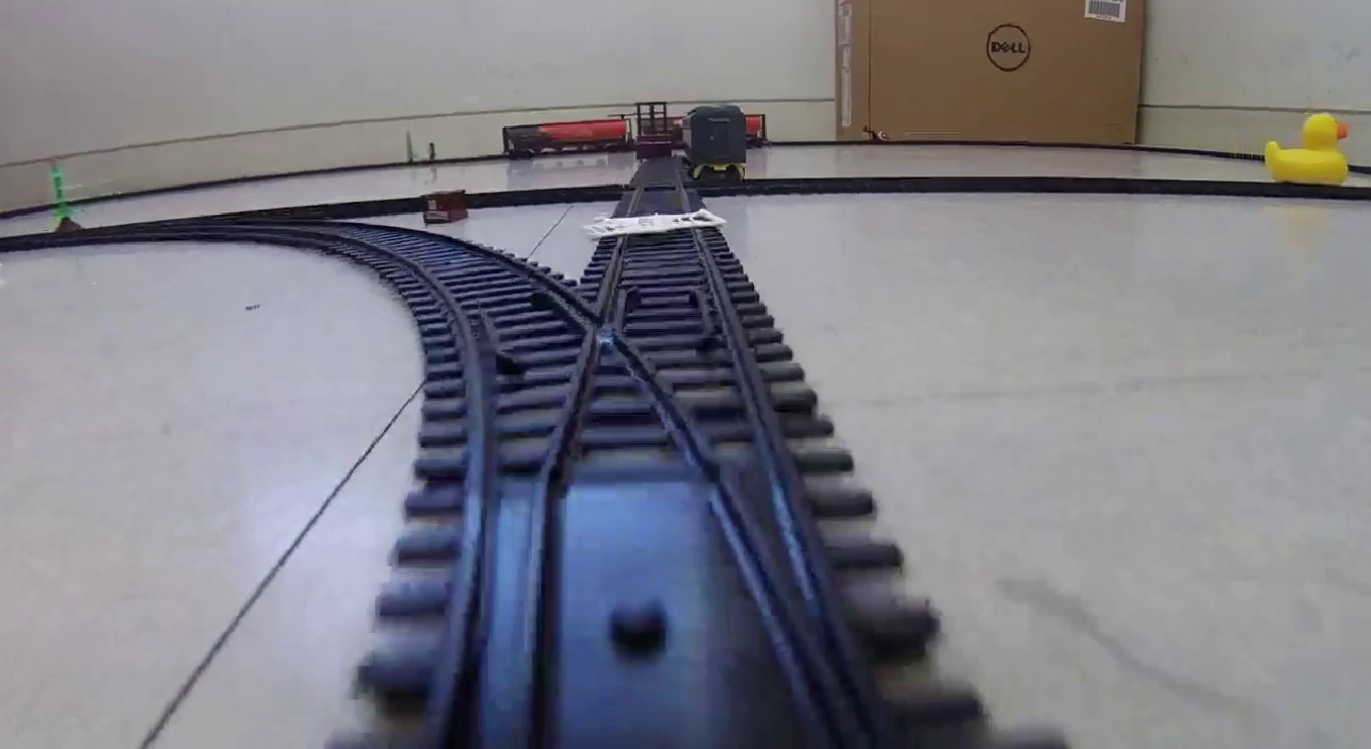box: (422, 191, 467, 224)
web: (588, 210, 727, 241)
